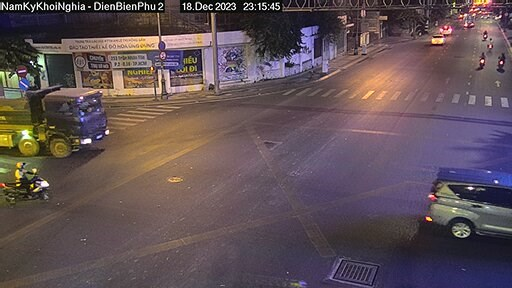car: (425, 151, 512, 242)
motorbike: (4, 163, 48, 211), (473, 52, 491, 68), (493, 52, 509, 69), (428, 30, 444, 47), (476, 27, 492, 41), (482, 34, 495, 51), (438, 22, 452, 35)
truck: (1, 73, 108, 161)
